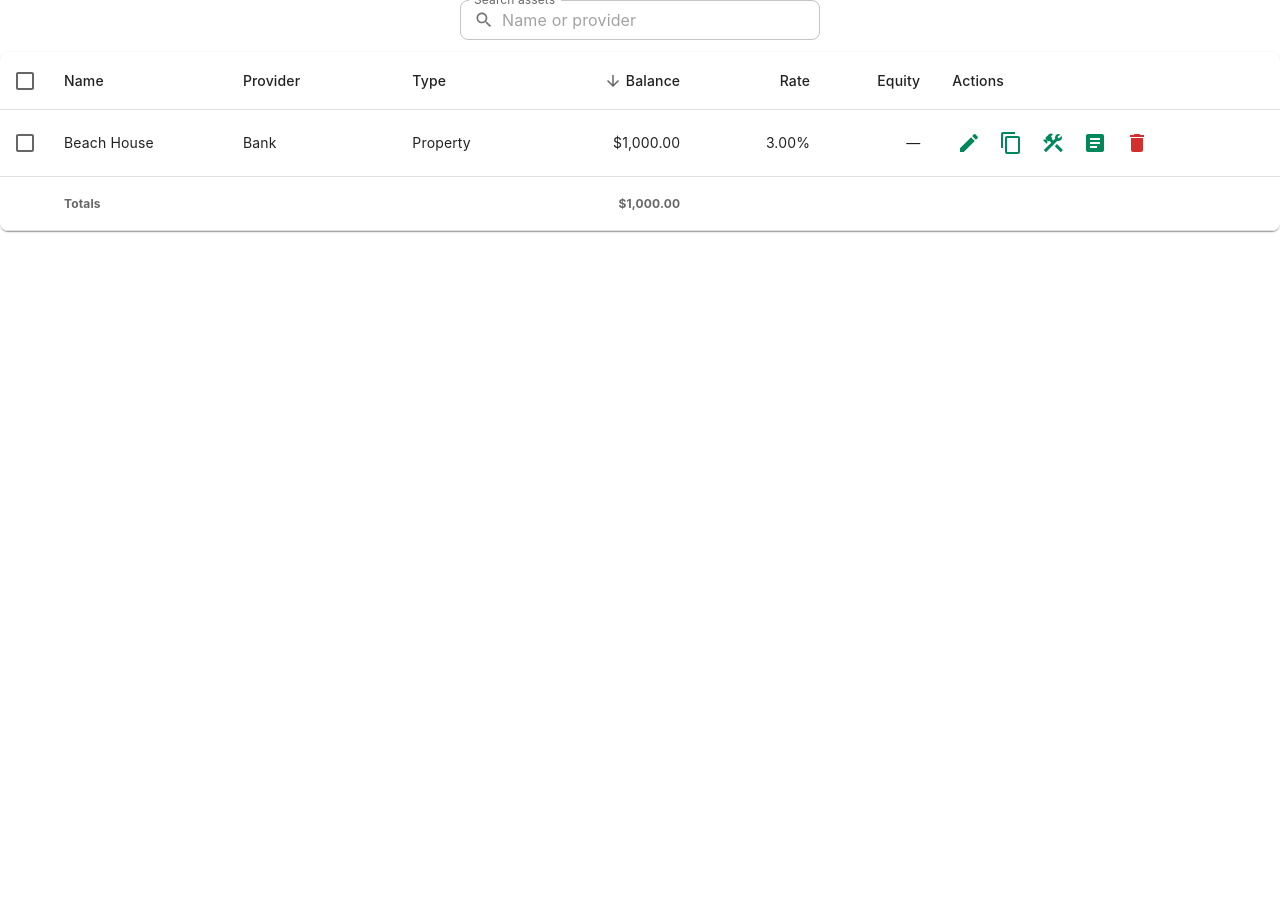
Test: AssetTable (shared HoldingTable config) › opens the Enhancement ROI calculator on click and closes it cleanly on Escape
The image size is (1280, 900).
Click the button named "Enhancement ROI" at (1053, 143), box [1036,126,1070,160]
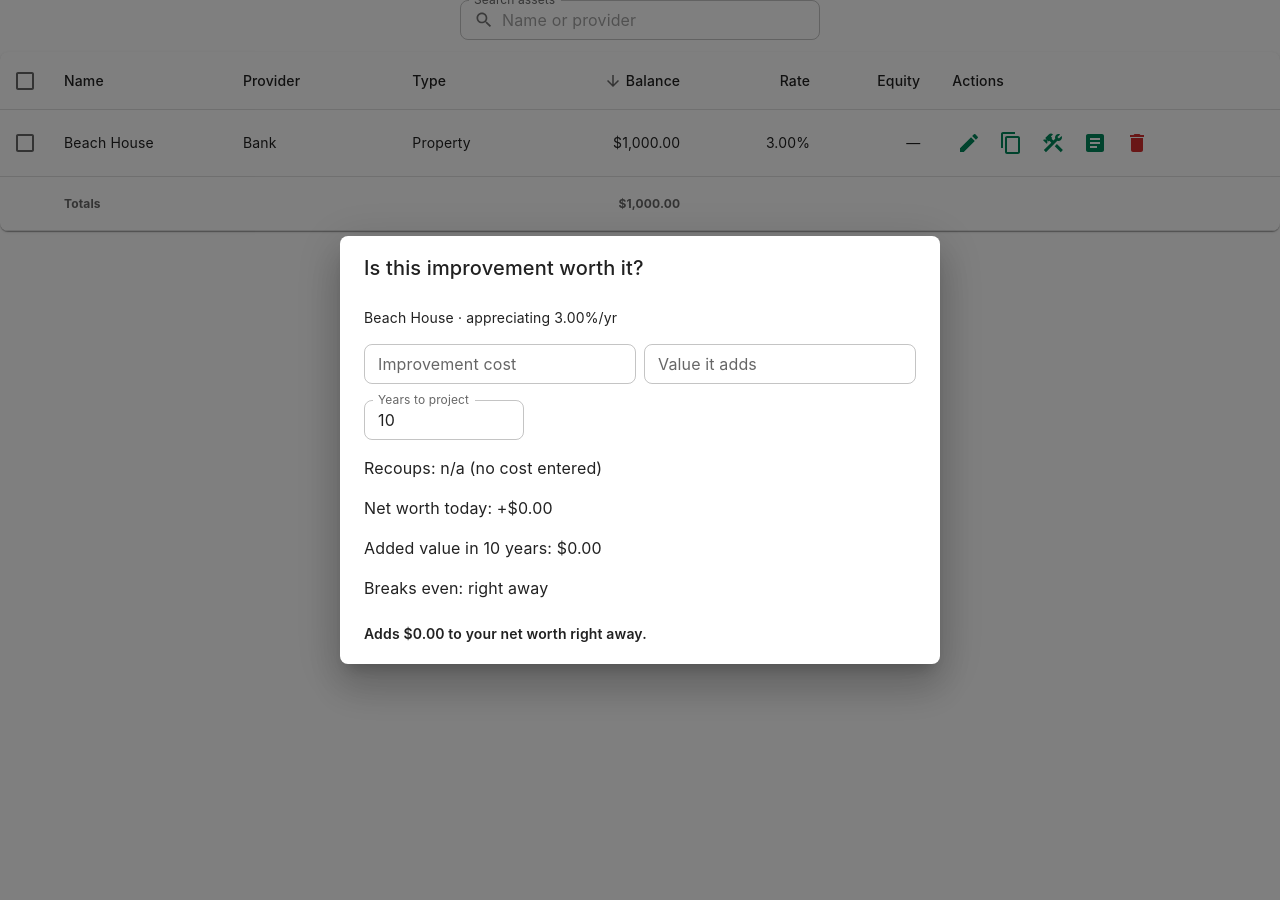
Check: the heading "Is this improvement worth it?" is shown, box [364,256,644,280]
Press Escape
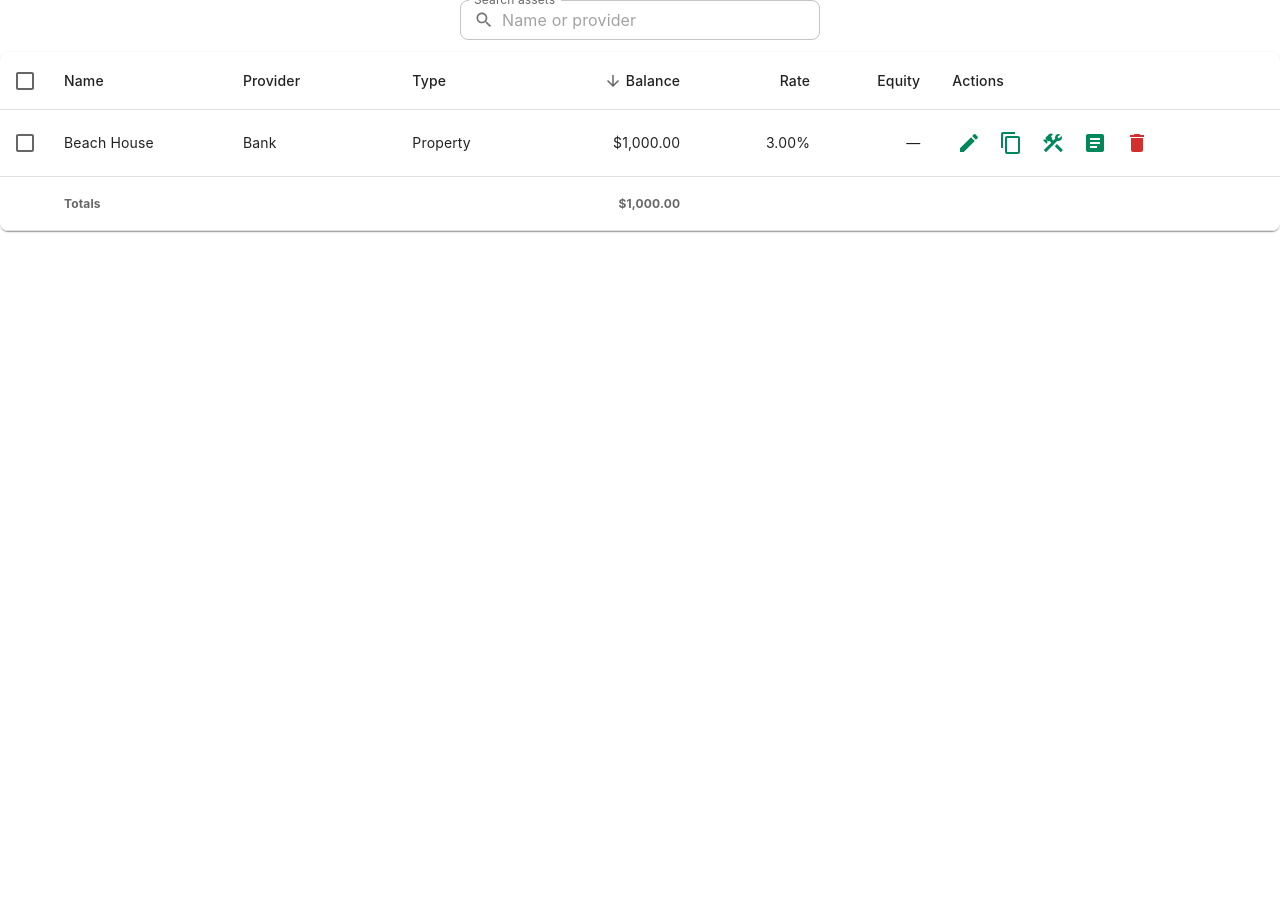
Check: the heading "Is this improvement worth it?" is gone
